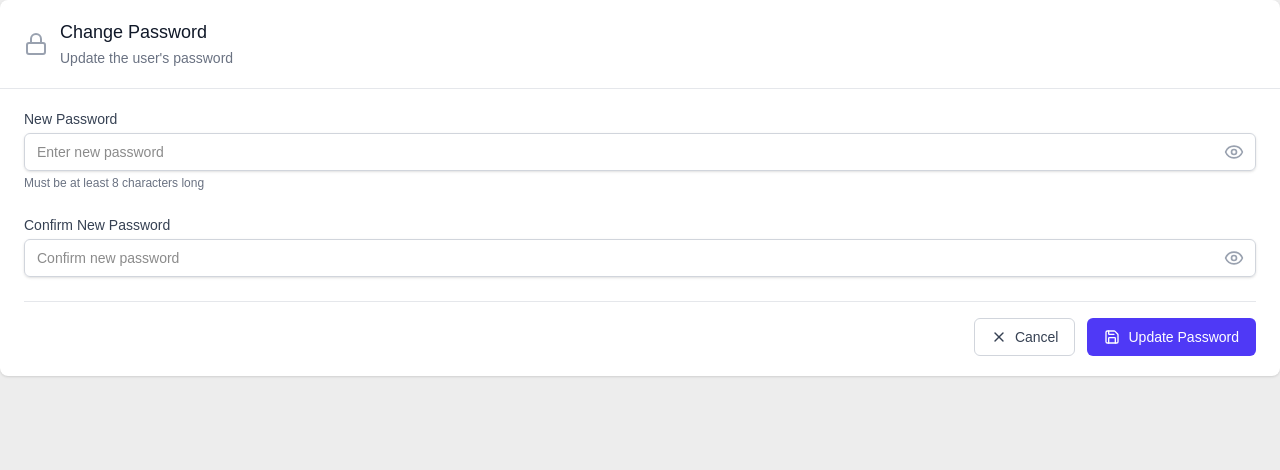
UserPasswordSection — edit mode › shows the server's error message on failure
Type "password123" into the password field labelled "New Password" at (640, 152), box [24,133,1256,171]
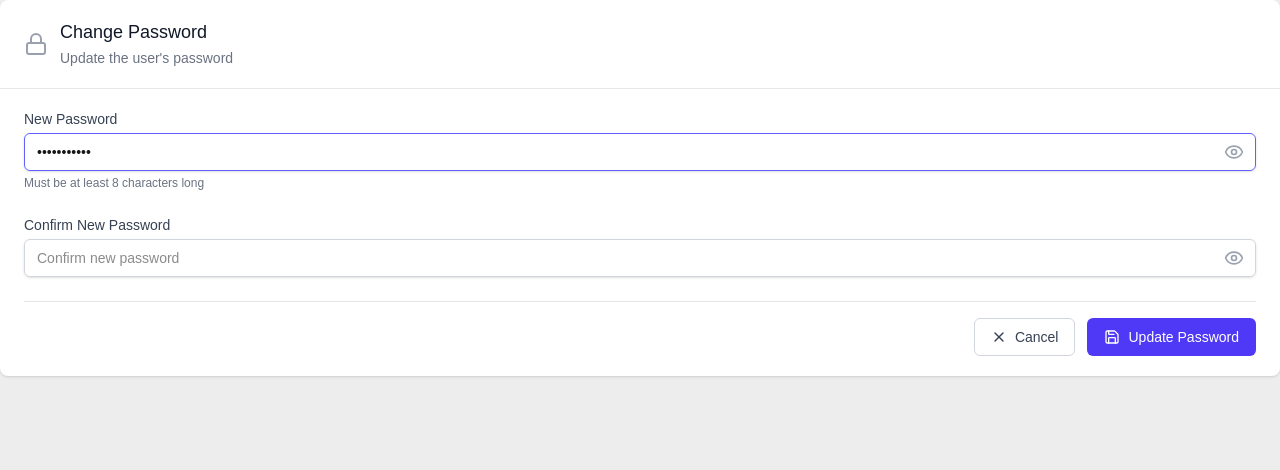
Type "password123" into the password field labelled "Confirm New Password" at (640, 258), box [24,239,1256,277]
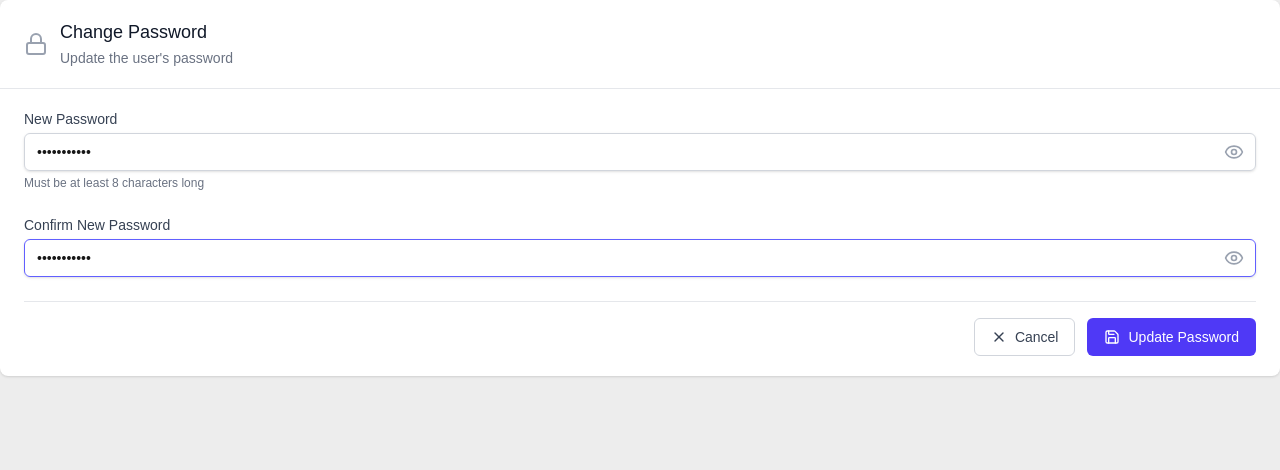
Click the button "Update Password" at (1172, 337), box [1088,318,1256,356]
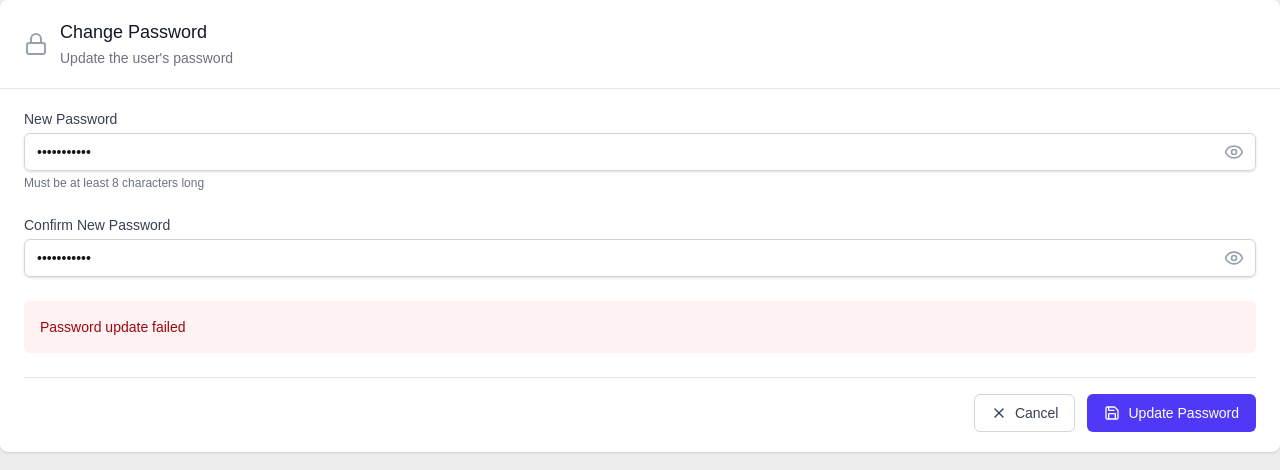
Now the text "Password update failed" is shown, box [40,319,186,335]
